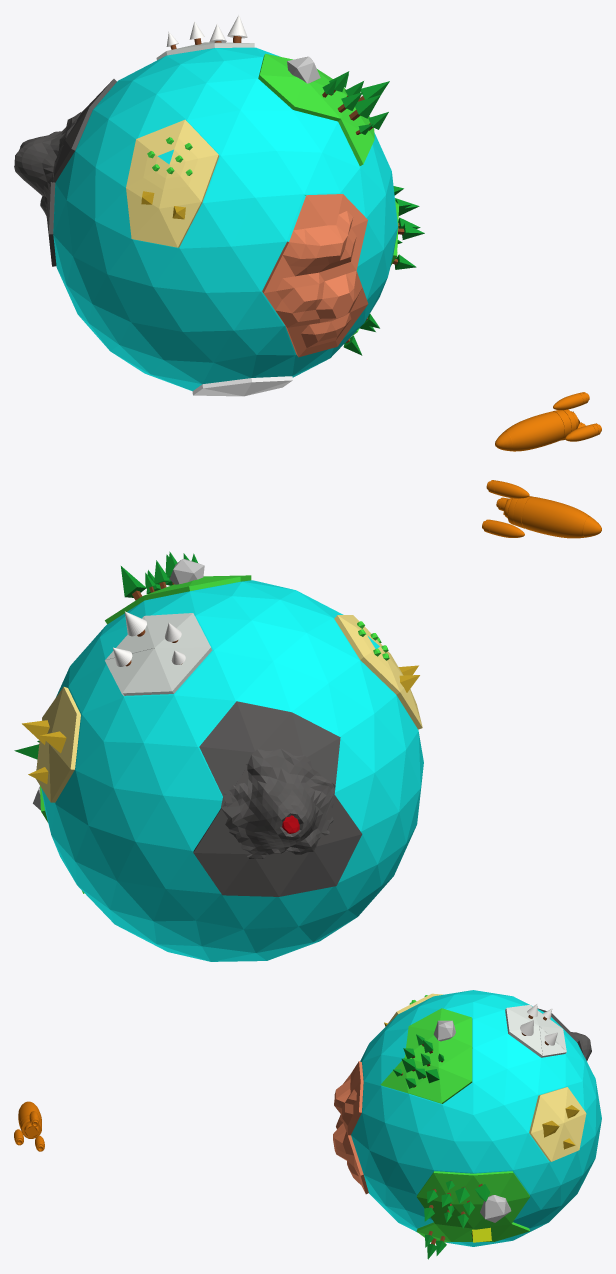
Rendered from Earthanimated.glb.
The picture shows the model from 3 angles, top to bottom: view 1: azimuth 30°, elevation 25°; view 2: azimuth 150°, elevation 25°; view 3: azimuth 270°, elevation 25°; orthographic projection. The views are drawn at different scales.
Visible parts, largest first — view 1: Icosphere, Icosphere.001, Cube.003, Plane.023, Icosphere.003; view 2: Icosphere, Icosphere.001, Plane.023, Cube.003, Icosphere.003; view 3: Icosphere, Icosphere.001, Cube.003, Icosphere.002, Icosphere.003.
Boxes of the visible parts, x1,y1,x2,y2 form: Icosphere: (53,47,397,396); Icosphere.001: (46,42,398,357); Cube.003: (495,392,601,451); Plane.023: (14,112,81,215); Icosphere.003: (287,56,320,83); Icosphere: (41,580,423,961); Icosphere.001: (36,575,422,896); Plane.023: (221,748,335,858); Cube.003: (482,480,601,538); Icosphere.003: (169,559,204,584); Icosphere: (351,990,601,1246); Icosphere.001: (333,993,586,1243); Cube.003: (14,1101,44,1151); Icosphere.002: (480,1195,511,1222); Icosphere.003: (433,1020,455,1041).
Bounding box in the file's own units: 2.39 × 2.16 × 4.86.
